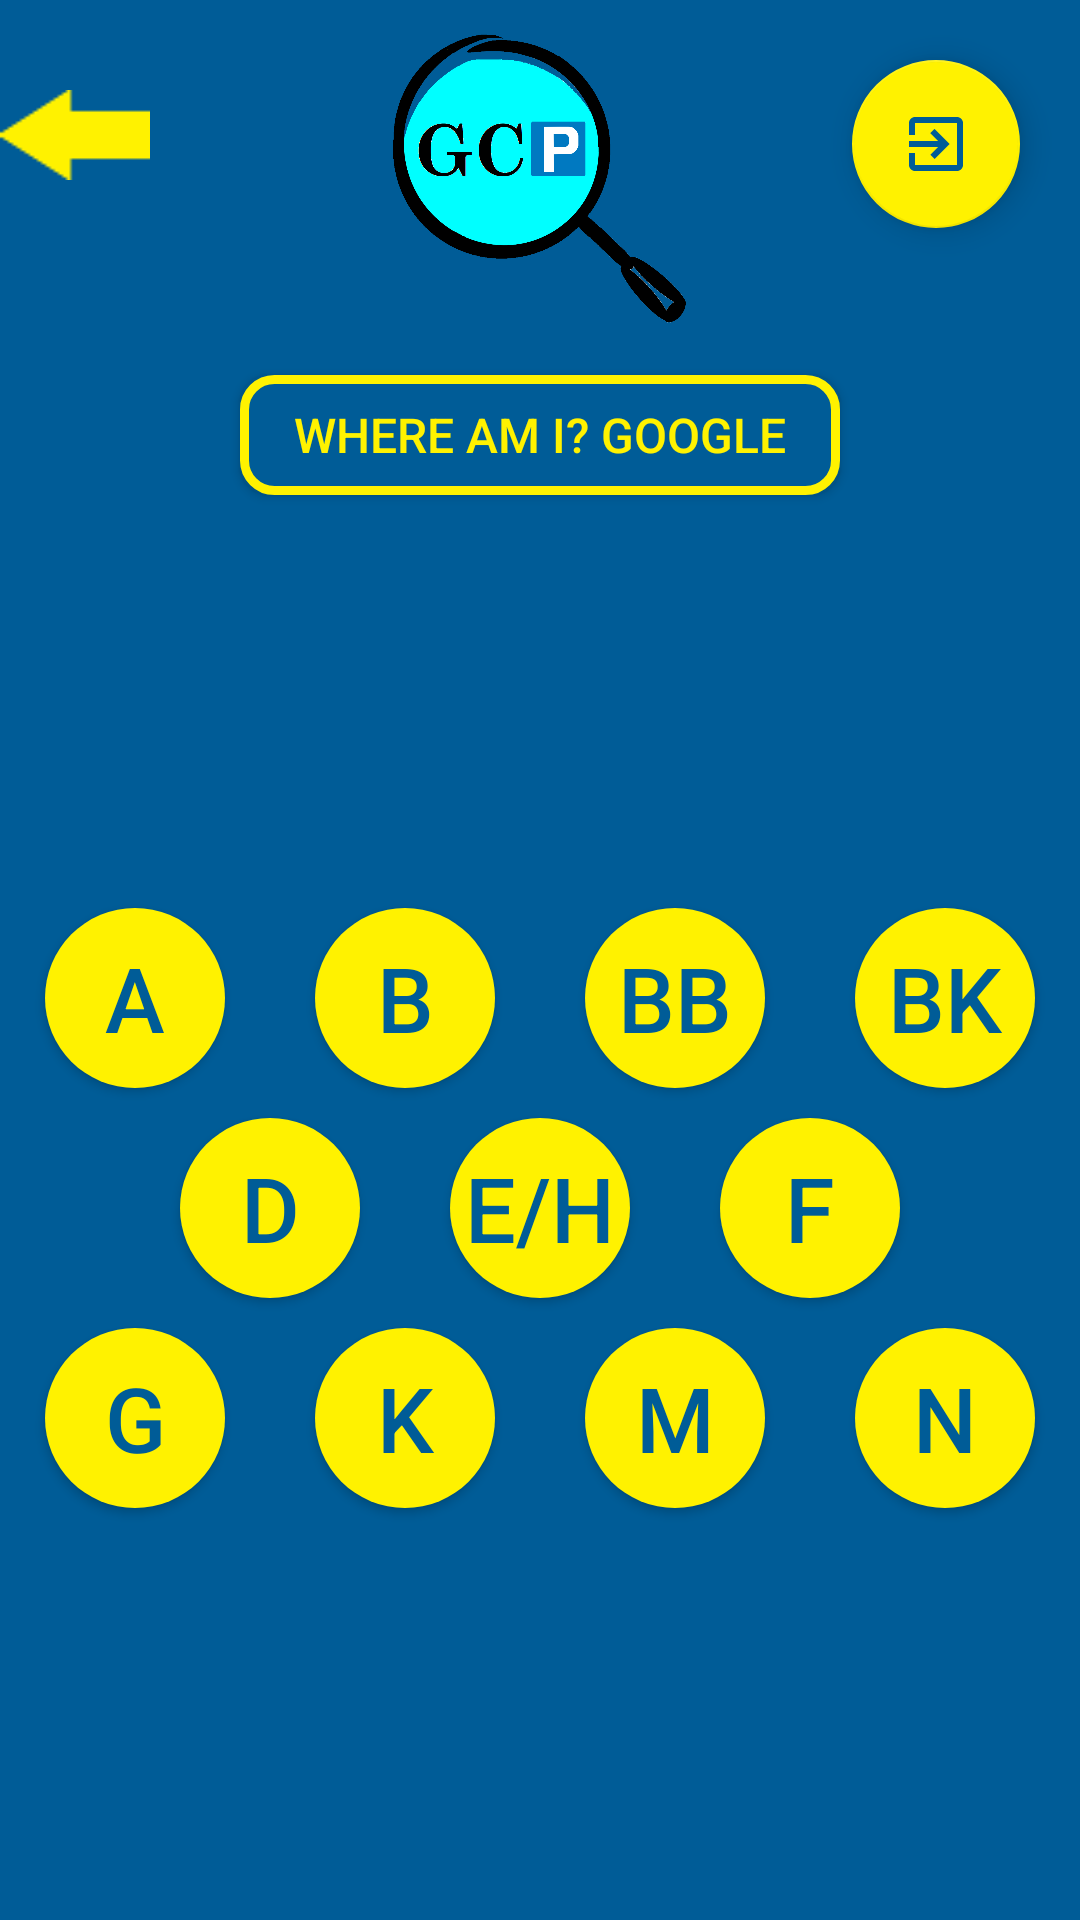

Named icons in this screenshot (1080w x 1920h) and their bounding boxes, rect(x1, y1, x2, y2):
back four: rect(0, 90, 150, 180)
exit: rect(852, 60, 1020, 228)
